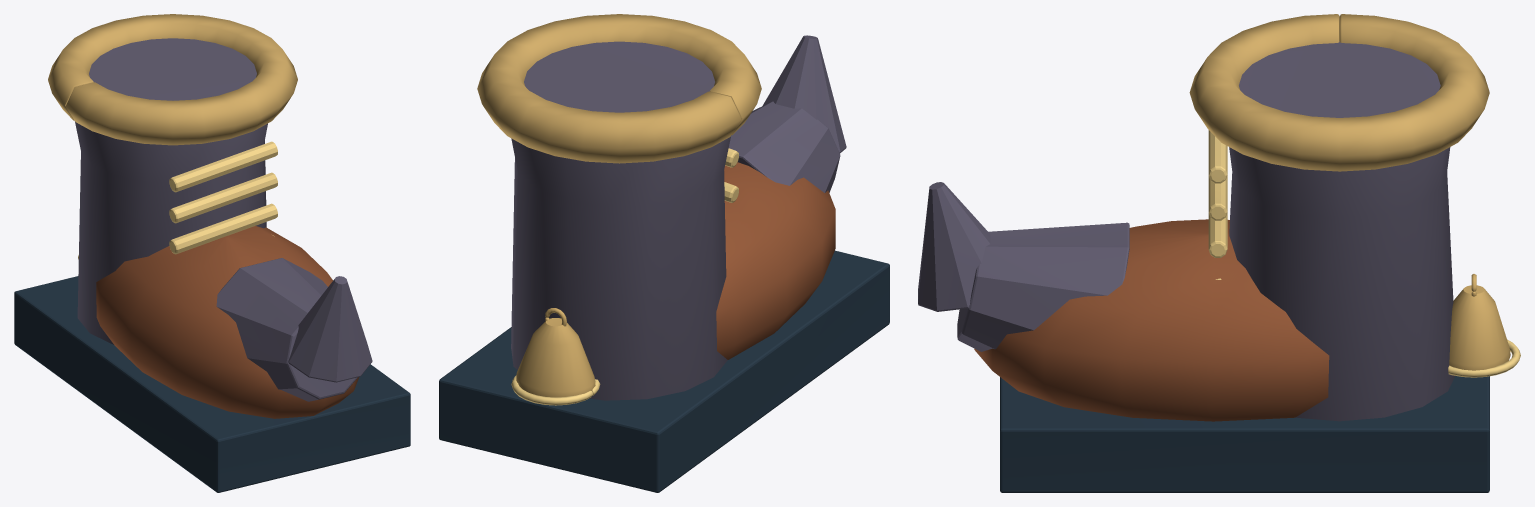
File: item_065.glb
3 views of the same model, side by side, from view 1: azimuth 30°, elevation 25°; view 2: azimuth 150°, elevation 25°; view 3: azimuth 270°, elevation 25° (orthographic). The views are drawn at different scales.
Parts seen in each view (by area): view 1: Item_065_bell_pilgrim_shoes; view 2: Item_065_bell_pilgrim_shoes; view 3: Item_065_bell_pilgrim_shoes.
Part boxes in pixels (<box>): Item_065_bell_pilgrim_shoes: <box>14,14,410,492</box>; Item_065_bell_pilgrim_shoes: <box>439,14,889,492</box>; Item_065_bell_pilgrim_shoes: <box>918,14,1520,492</box>.
Bounding box in the file's own units: 0.1898 × 0.2552 × 0.3816.
